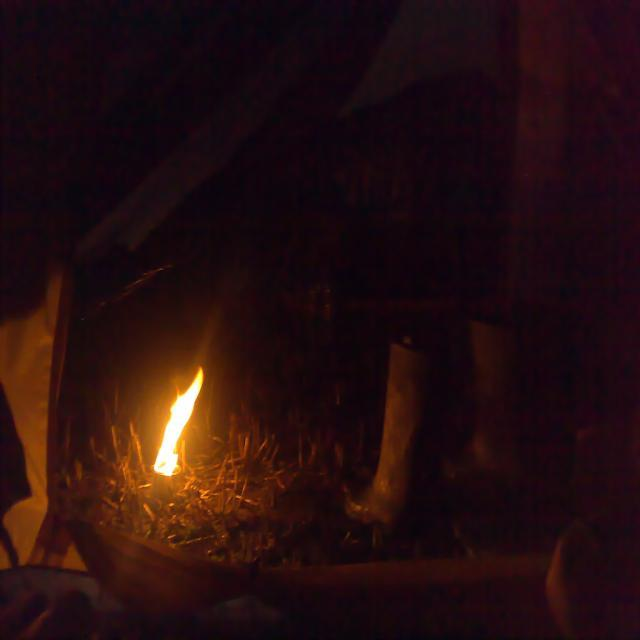Fire: (162, 392, 196, 485)
